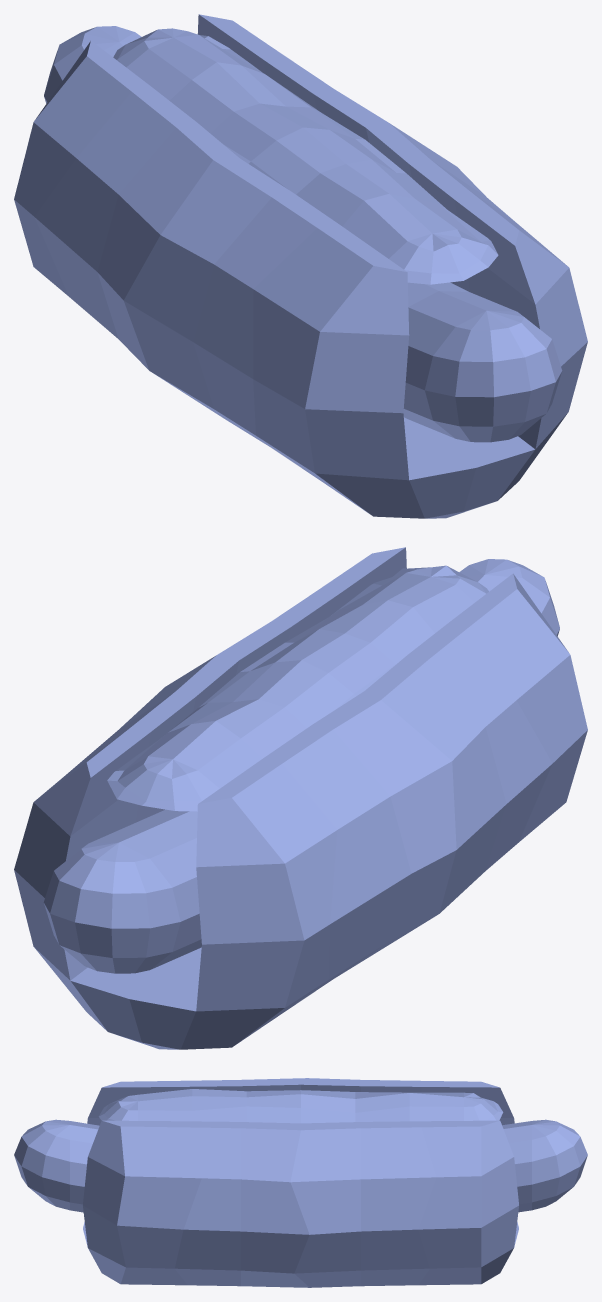
Rendered from HotDog.fbx.
3 renders of one model, top to bottom at view 1: azimuth 30°, elevation 25°; view 2: azimuth 150°, elevation 25°; view 3: azimuth 270°, elevation 25°, orthographic. The views are drawn at different scales.
Parts seen in each view (by area): view 1: Dog4, Dog3, Dog2, Dog1, Dog5; view 2: Dog1, Dog2, Dog3, Dog4, Dog5; view 3: Dog2, Dog1, Dog3, Dog4, Dog5.
Boxes of the visible parts, x1,y1,x2,y2 form: Dog4: [253, 189, 587, 518]; Dog3: [123, 122, 512, 477]; Dog2: [34, 55, 387, 369]; Dog1: [14, 14, 282, 296]; Dog5: [403, 282, 562, 442]; Dog1: [14, 721, 337, 1049]; Dog2: [66, 655, 456, 1023]; Dog3: [217, 592, 552, 913]; Dog4: [314, 547, 587, 841]; Dog5: [459, 559, 559, 636]; Dog2: [290, 1078, 436, 1287]; Dog1: [409, 1081, 587, 1285]; Dog3: [175, 1078, 309, 1287]; Dog4: [83, 1080, 201, 1285]; Dog5: [14, 1119, 99, 1212].
Bounding box in the file's own units: 31.35 × 25.68 × 73.66.
